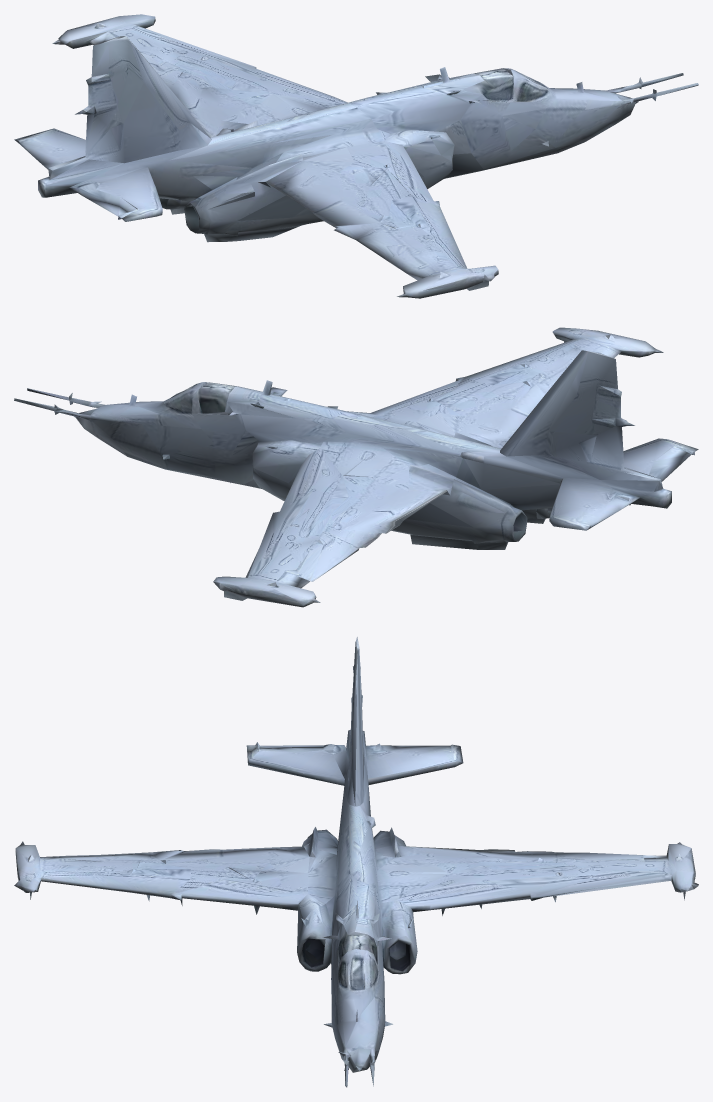
The picture shows the model from 3 angles, top to bottom: view 1: azimuth 30°, elevation 25°; view 2: azimuth 150°, elevation 25°; view 3: azimuth 270°, elevation 25°; orthographic projection. The views are drawn at different scales.
Parts seen in each view (by area): view 1: hull, wingR, wingL, finR, engR, stabR, pilot, stabL; view 2: hull, wingL, wingR, finL, engL, stabL, stabR, pilot; view 3: hull, wingR, wingL, stabL, stabR, pilot, finL, finR.
Boxes of the visible parts, box(x1,y1,x2,y2) form: hull: box(38, 67, 698, 241); wingR: box(266, 141, 498, 298); wingL: box(52, 14, 347, 137); finR: box(48, 36, 211, 179); engR: box(178, 153, 323, 242); stabR: box(70, 166, 162, 221); pilot: box(451, 68, 547, 115); stabL: box(14, 128, 85, 169); hull: box(14, 380, 671, 549); wingL: box(213, 448, 446, 607); wingR: box(371, 327, 663, 448); finL: box(500, 350, 660, 480); engL: box(393, 464, 527, 549); stabL: box(549, 478, 636, 530); stabR: box(623, 438, 698, 481); pilot: box(164, 382, 260, 414); hull: box(277, 730, 446, 1087); wingR: box(14, 841, 309, 914); wingL: box(397, 842, 698, 915); stabL: box(366, 743, 463, 784); stabR: box(246, 742, 344, 785); pilot: box(333, 918, 378, 989); finL: box(355, 637, 364, 806); finR: box(348, 643, 357, 805).
Bounding box in the file's own units: 15.1 × 4.96 × 14.43.
Materials: 1 (1 with a texture image).
